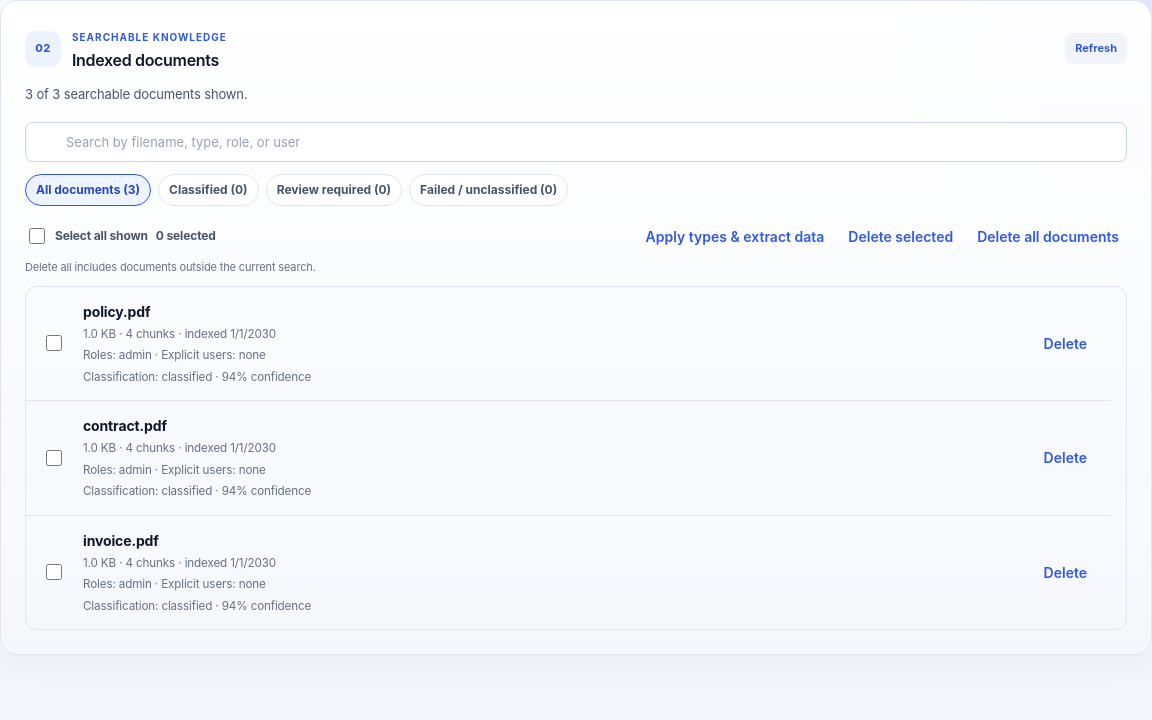
selects multiple visible documents and deletes them together
Expected: the text "policy.pdf" is shown, [83, 303, 150, 320]
Click the checkbox named "Select policy.pdf": (54, 344) [46, 336, 62, 352]
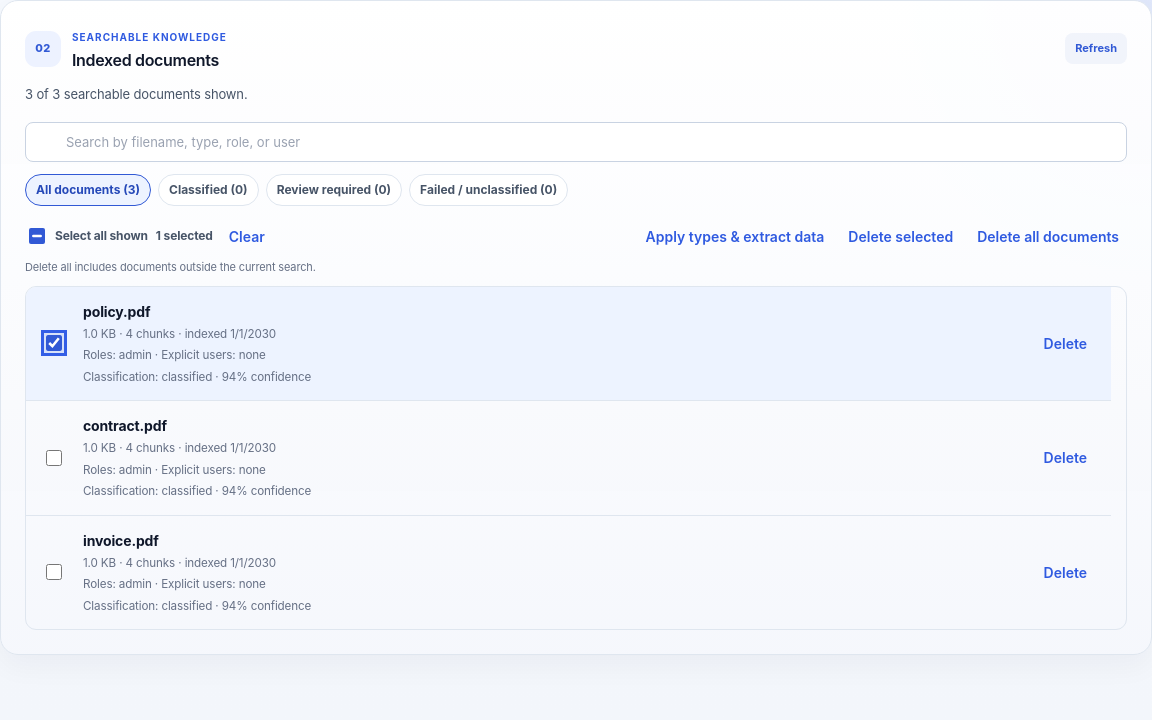
Click the checkbox named "Select contract.pdf": (54, 458) [46, 450, 62, 466]
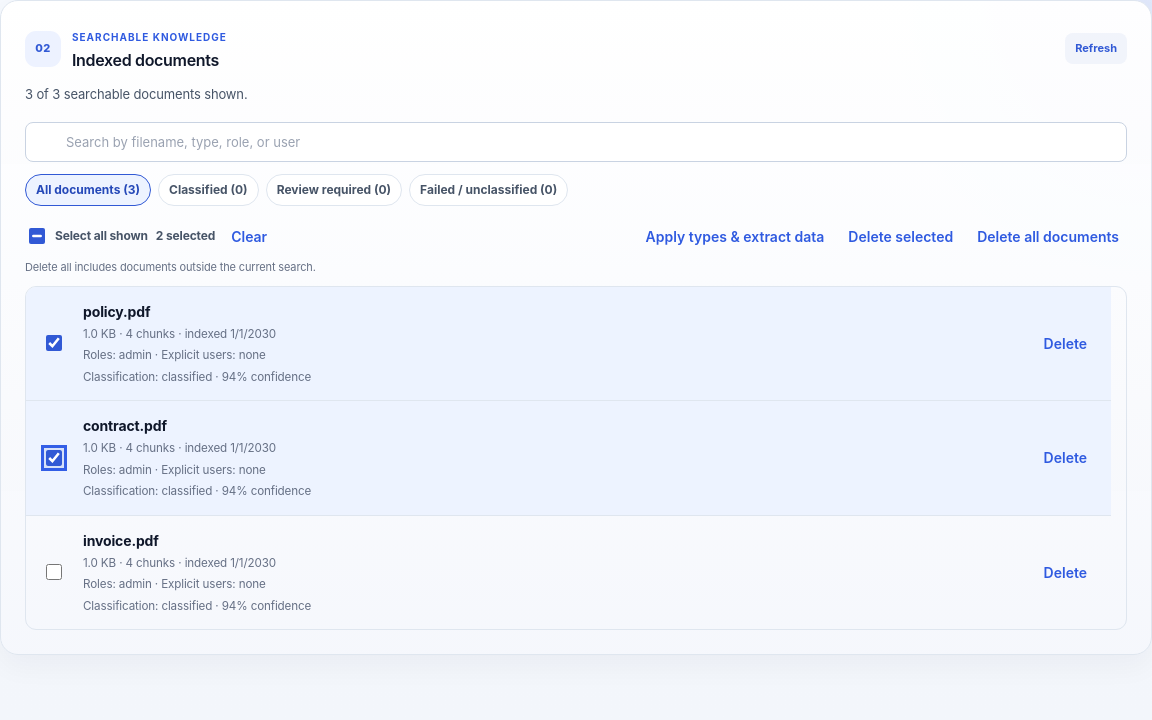
Expected: the text "2 selected" is shown, [156, 227, 215, 245]
Click the button "Delete selected": (901, 236) [840, 218, 961, 255]
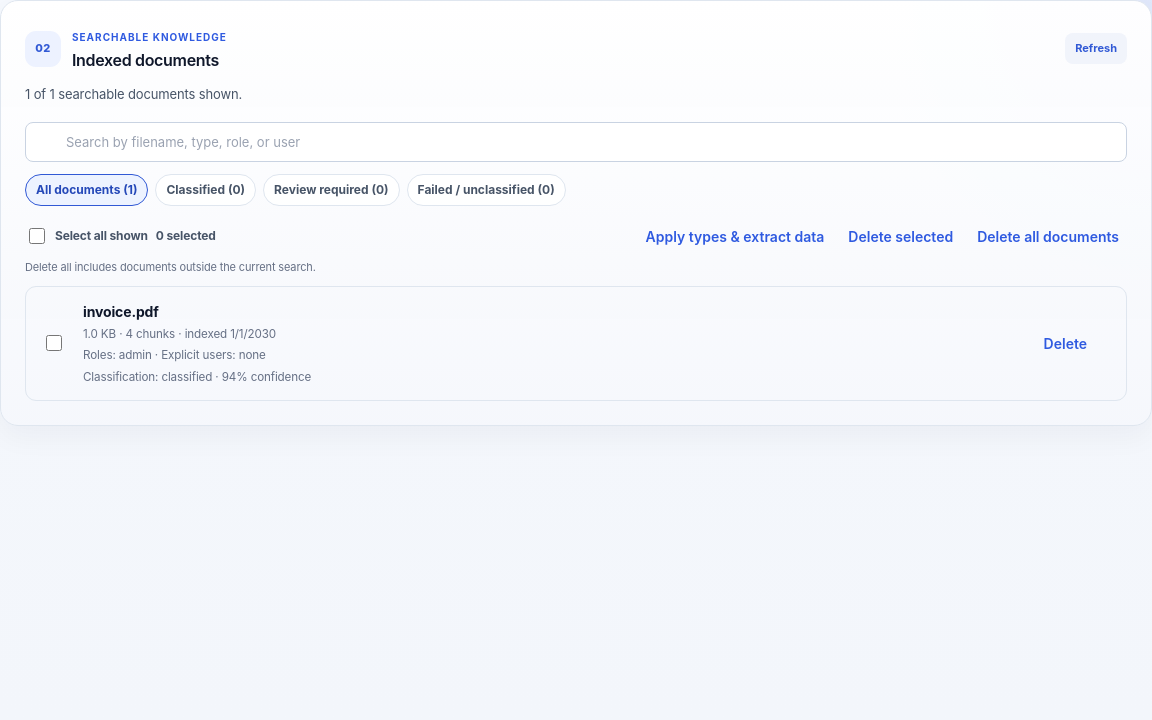
Expected: the text "invoice.pdf" is shown, [83, 303, 159, 320]
Expected: the text "policy.pdf" is gone
Expected: the text "0 selected" is shown, [156, 227, 216, 245]
